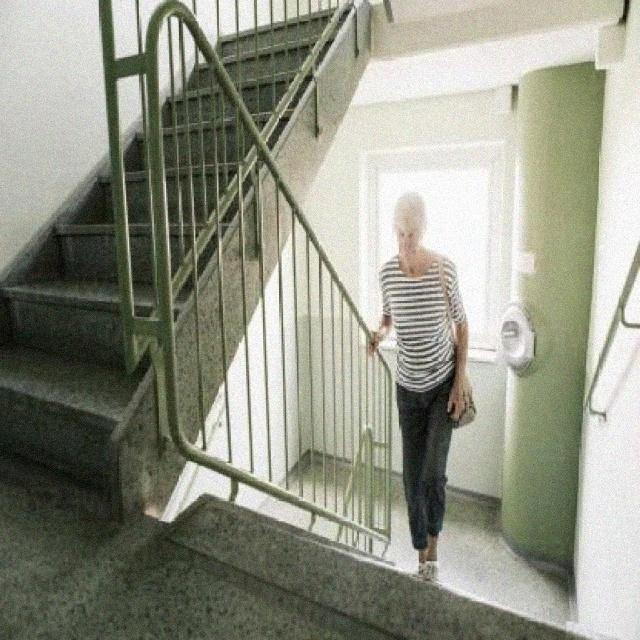stair: (2, 4, 376, 530)
